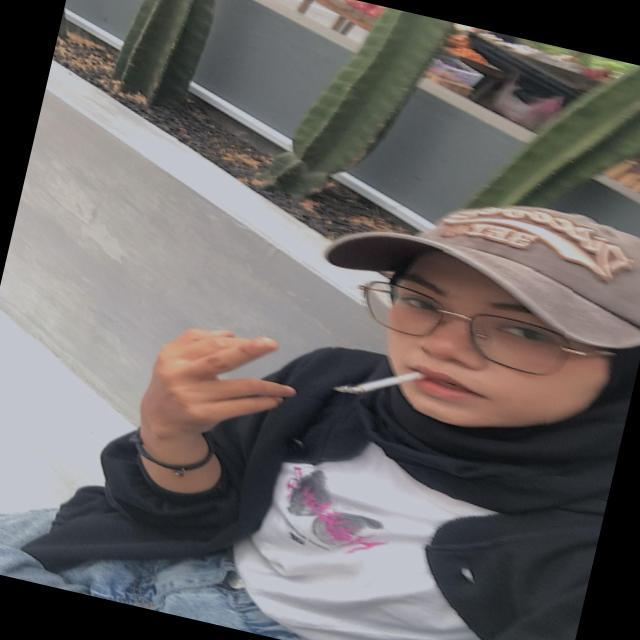cigarette: (303, 336, 442, 424)
